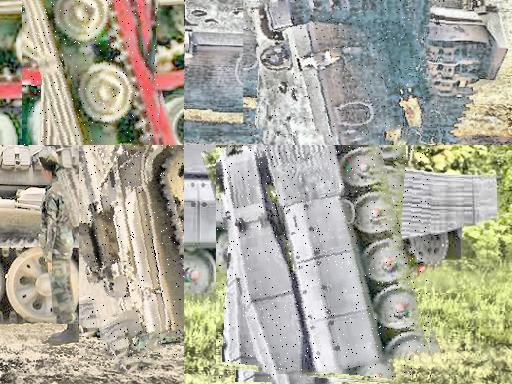tanks: (218, 146, 431, 379), (245, 1, 446, 140), (81, 146, 185, 362), (24, 1, 156, 146), (1, 146, 60, 323)
